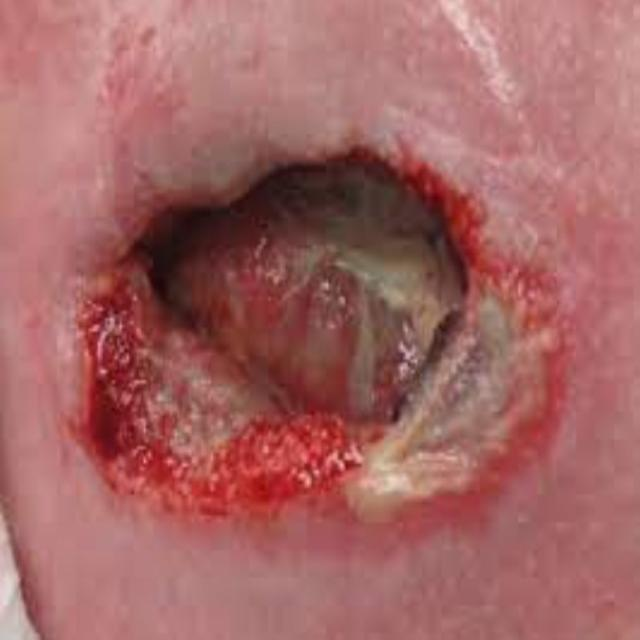stage-4: (78, 155, 564, 518)
